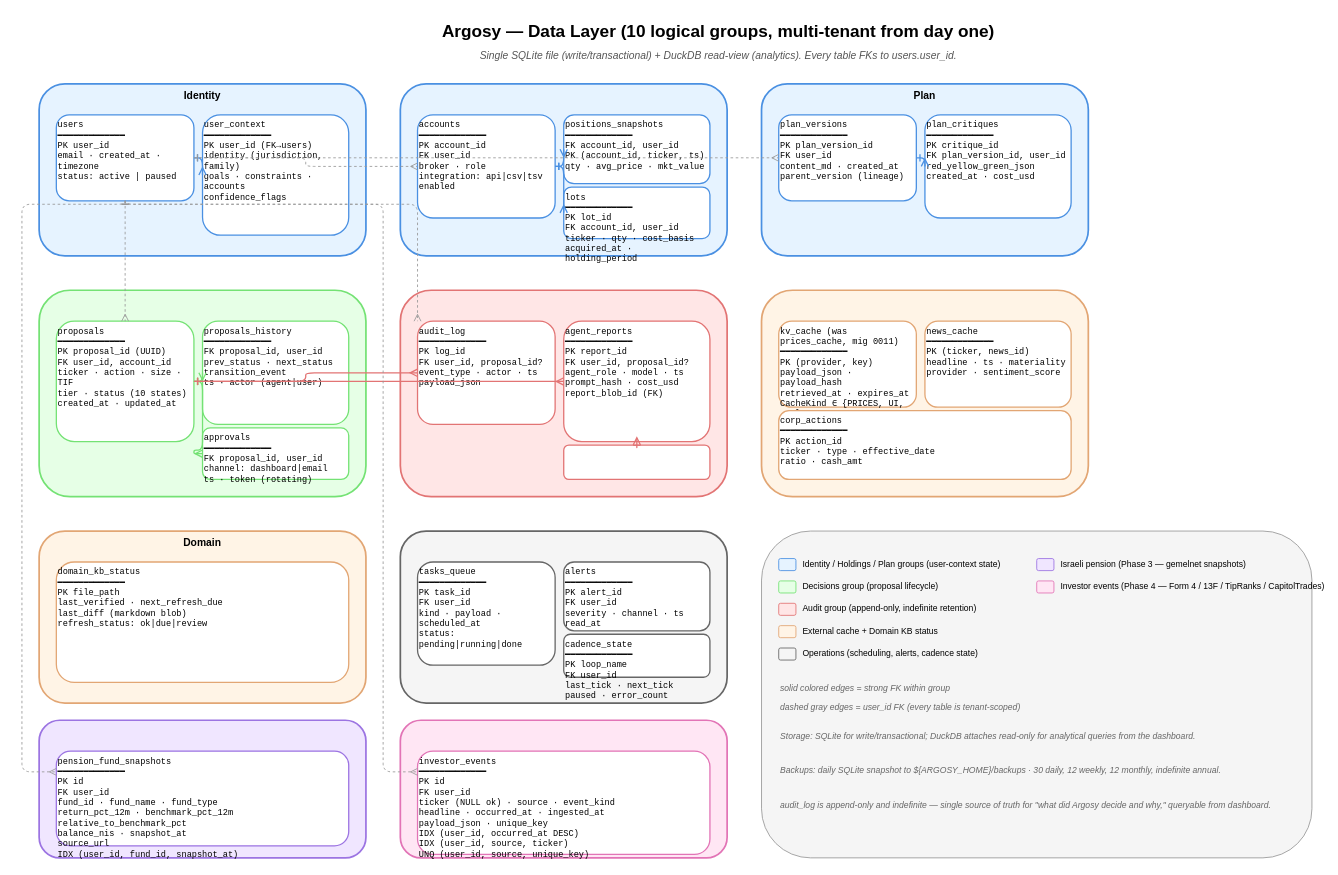
This 1338x875 diagram has some shape labels left out. Here are the shapes that lost their labels. From the top down, the box of each, then its label:
(399, 83, 728, 256): Holdings
(38, 289, 366, 497): Decisions
(399, 289, 728, 497): Audit (append-only)
(760, 289, 1089, 497): External (cached)
(563, 444, 710, 480): agent_reports_blobs ━━━━━━━━━━━━━ PK blob_id content (JSON, large)
(399, 530, 728, 703): Operations
(761, 530, 1312, 858): Legend
(38, 719, 366, 858): Israeli pension (Phase 3)
(399, 719, 728, 858): Investor events (Phase 4)
